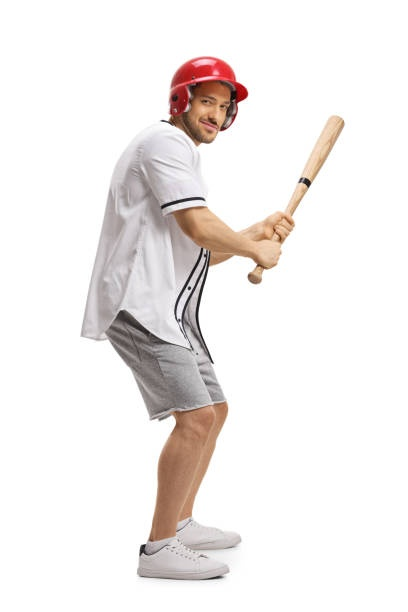bita: (246, 105, 346, 272)
